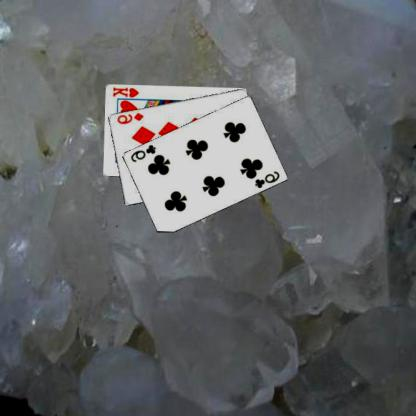6C: (130, 142, 159, 163), (254, 169, 282, 189)
9D: (116, 110, 146, 125)
KH: (112, 84, 142, 99)
